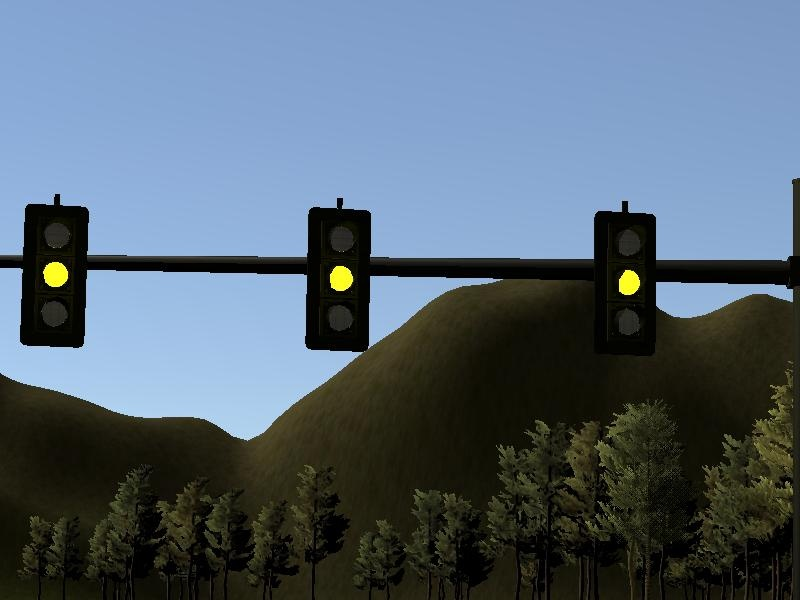yellow: (297, 191, 379, 356), (586, 191, 664, 360), (18, 191, 96, 355)
